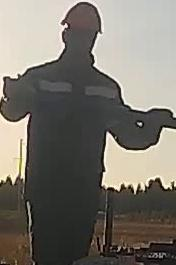helmet: (60, 0, 103, 36)
vest: (0, 61, 175, 264)
